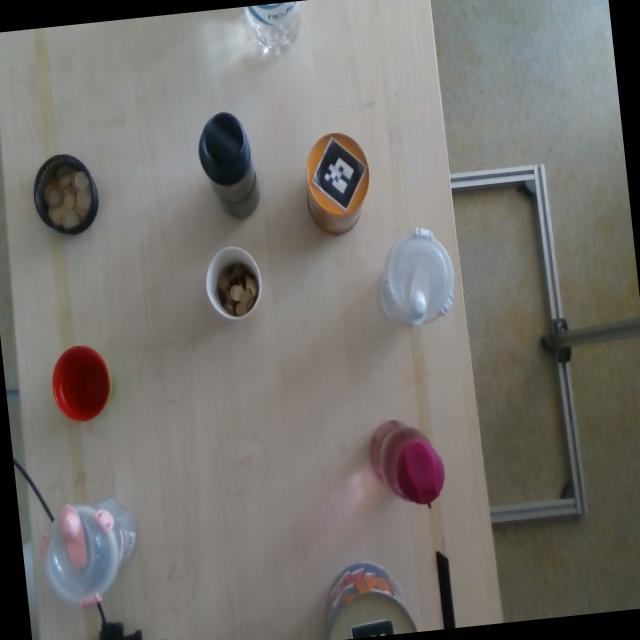cups: (39, 496, 142, 614), (377, 223, 459, 329), (300, 128, 375, 242), (318, 558, 419, 640), (193, 108, 263, 224), (366, 416, 446, 511), (31, 149, 102, 239), (48, 342, 114, 423), (201, 244, 263, 324), (240, 1, 306, 62)
